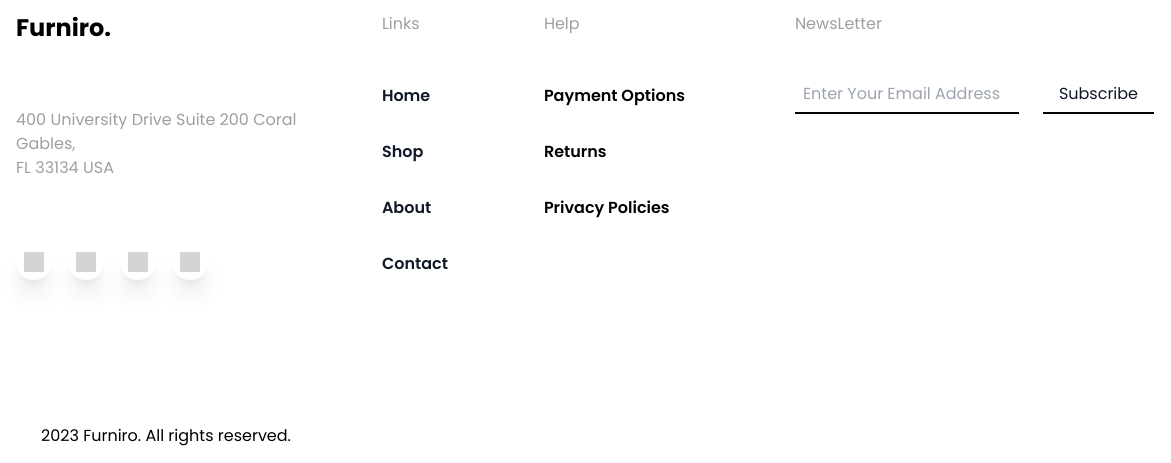
Test case: Footer Component › should show error message when email is invalid
The width and height of the screenshot is (1171, 463).
In the field with placeholder "Enter Your Email Address": {"x": 907, "y": 95} [795,76,1019,114], type "invalid-email"
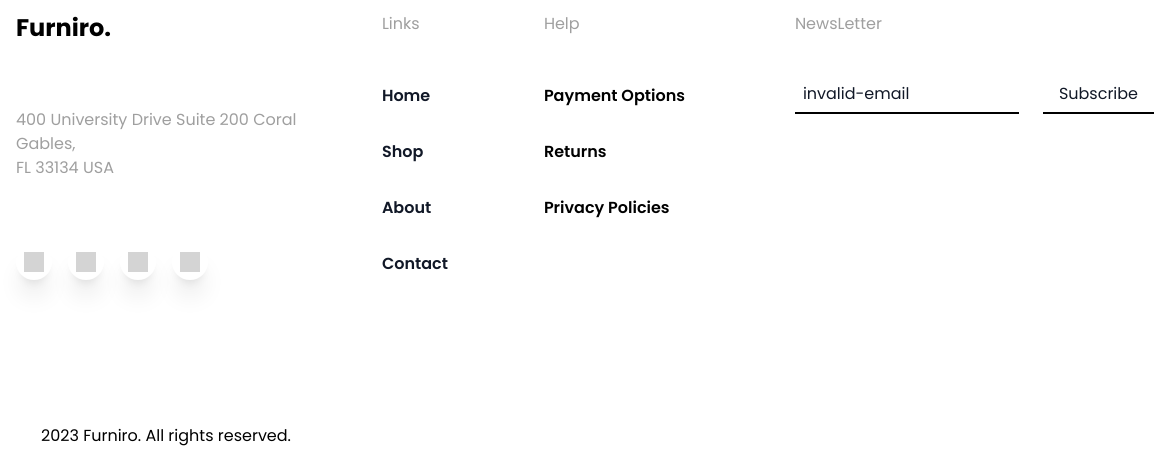
Click the button "Subscribe": {"x": 1098, "y": 95} [1043,76,1154,114]
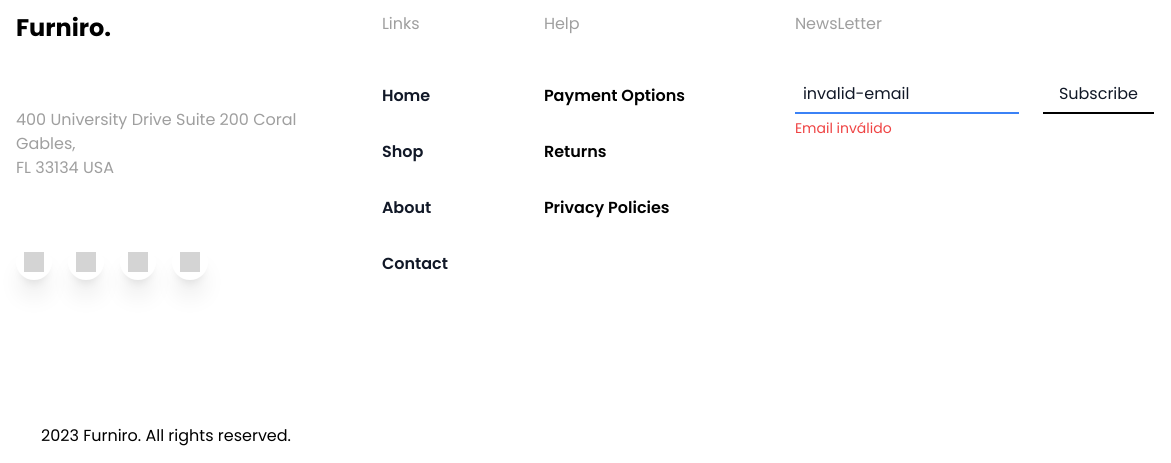
Expected: the text "Email inválido" is shown, [795,118,892,138]
